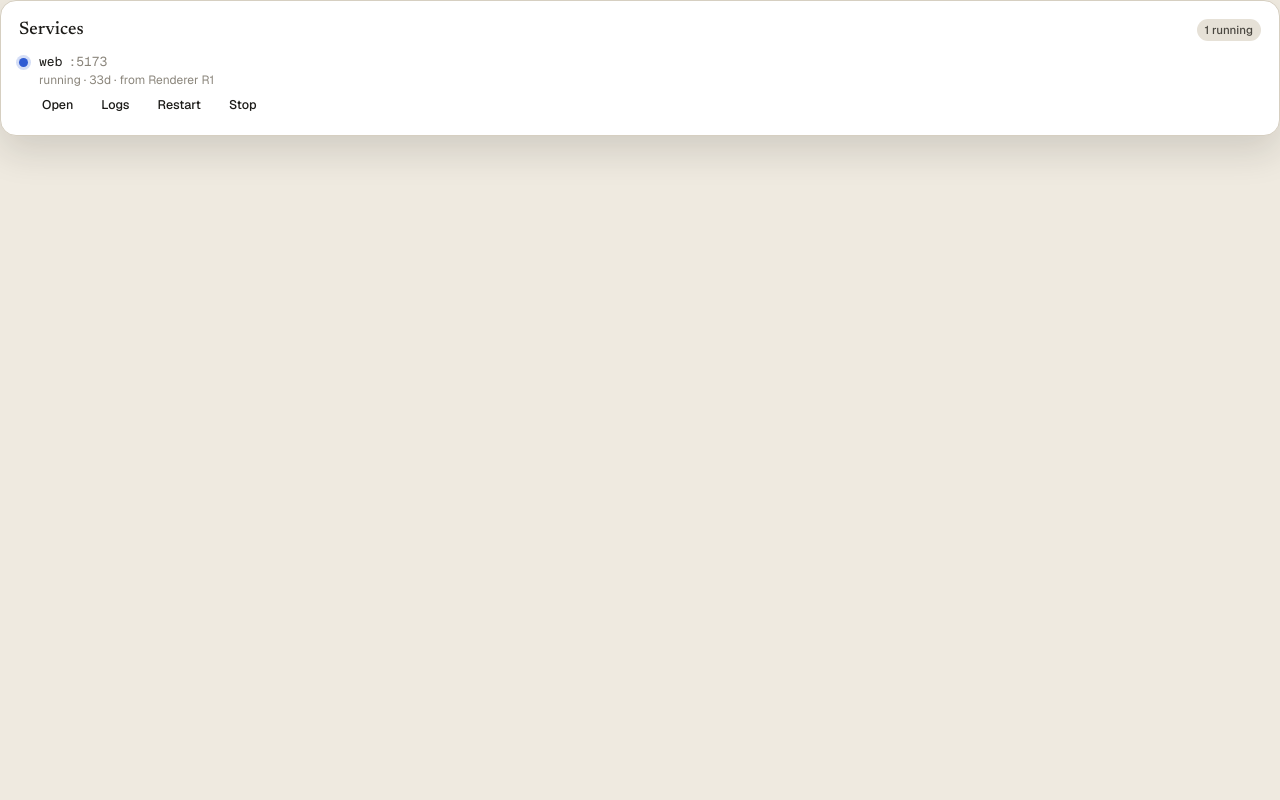
Test: ServicesCard › shows the log tail as plain text in a sheet
Click the button "Logs": (115, 105) x1=88 y1=91 x2=143 y2=119
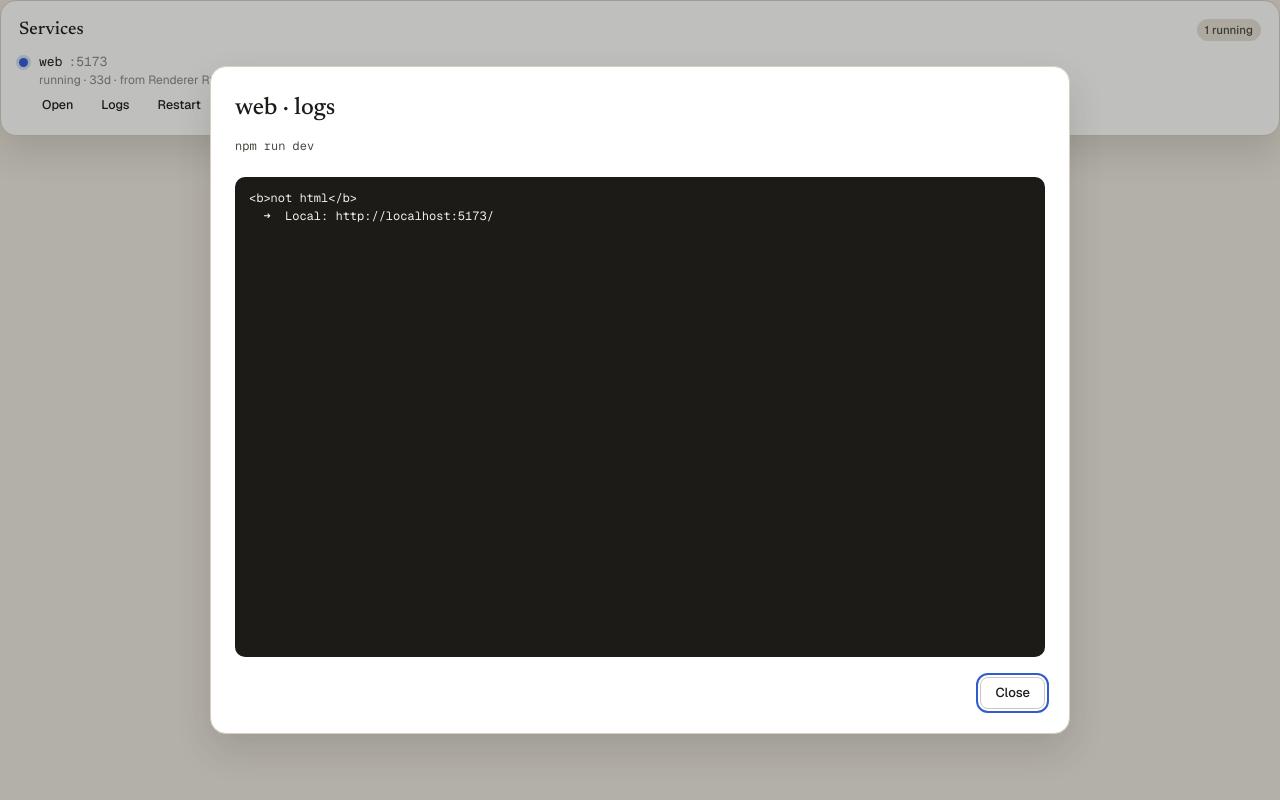
Expected: the text named "web log" shows "Local: http://localhost:5173/", x1=249 y1=190 x2=494 y2=224
Expected: the dialog "web · logs" shows "npm run dev", x1=235 y1=138 x2=314 y2=154
